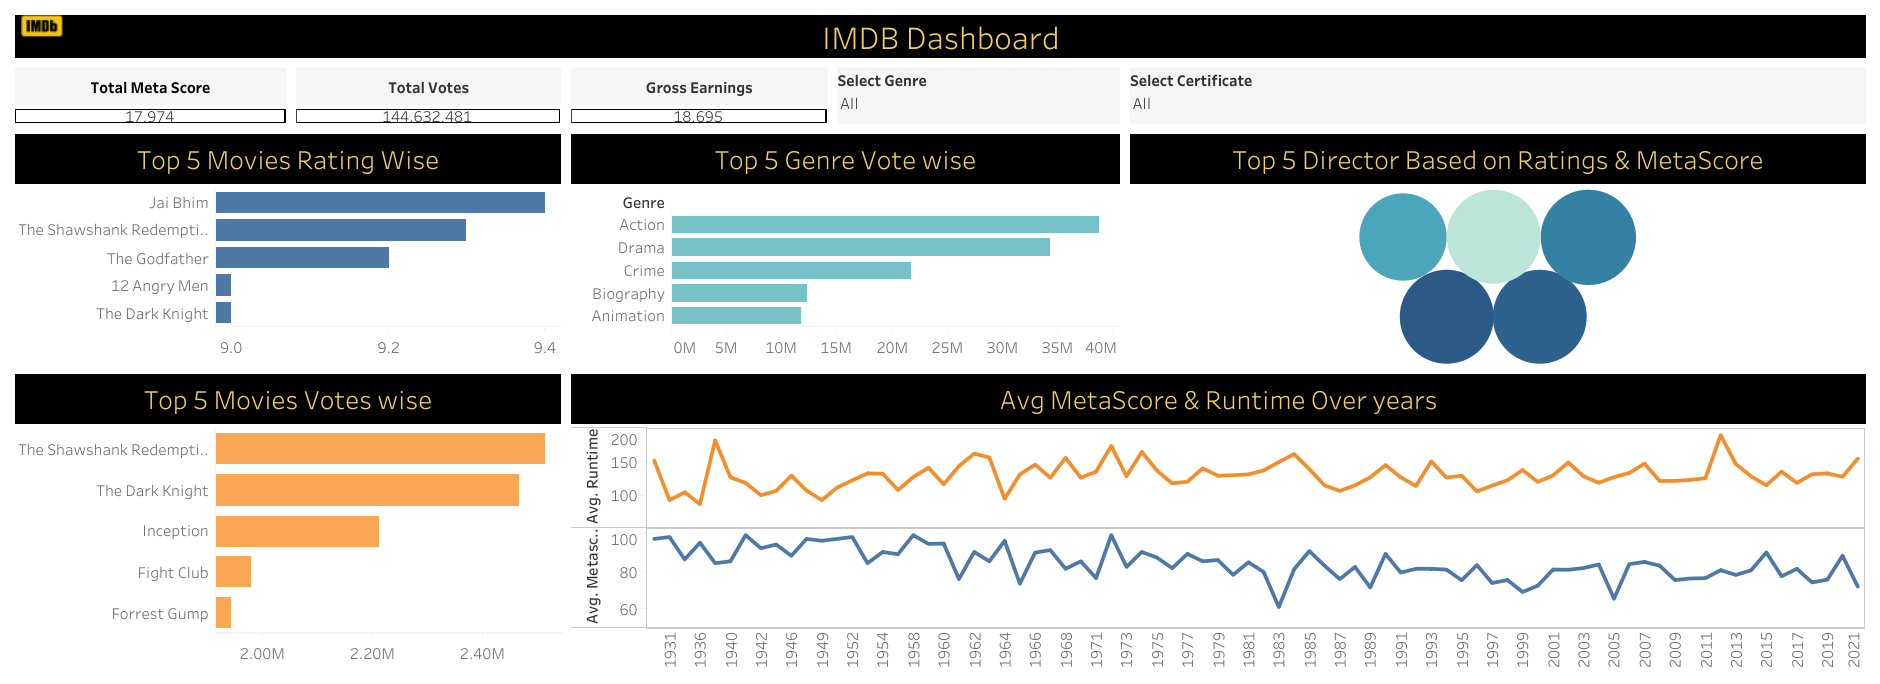

This screenshot's page, from the dashboard's own definition file:
{"tool":"tableau","page":{"name":"IMDB Dashboard","canvas":[1000,1000],"units":"permille","ordinal":0},"visuals":[{"type":"title","box":[4.8,9.1,990.3,57.1]},{"type":"image","param":"Image/logo.png","box":[11.5,21.7,50.7,33.1]},{"type":"worksheet","title":"Total Meta Score","mark":"Automatic","box":[4.8,66.3,149.4,99.4]},{"type":"worksheet","title":"Total Votes","mark":"Automatic","box":[154.3,66.3,146.4,99.4]},{"type":"worksheet","title":"Gross Earnings","mark":"Automatic","box":[300.7,66.3,142.1,99.4]},{"type":"filter","title":"Top 5 Movies Rating Wise","param":"[federated.0opvas81oexsgy19pbnk90237aim].[none:genre:nk]","box":[442.7,66.3,155.5,99.4]},{"type":"filter","title":"Top 5 Movies Rating Wise","param":"[federated.0opvas81oexsgy19pbnk90237aim].[none:certificate:nk]","box":[598.3,66.3,396.9,99.4]},{"type":"worksheet","title":"Top 5 Movies Rating Wise","mark":"Automatic","rows":["movie name"],"cols":["RATING"],"box":[4.8,165.7,295.7,362.8]},{"type":"worksheet","title":"Top 5 Genre Vote wise","mark":"Automatic","rows":["genre"],"cols":["votes"],"box":[300.5,165.7,297.8,362.8]},{"type":"worksheet","title":"Top 5 Director Based on Ratings & MetaScore","mark":"Circle","box":[598.3,165.7,396.9,362.8]},{"type":"worksheet","title":"Top 5 Movies Votes wise","mark":"Automatic","rows":["movie name"],"cols":["votes"],"box":[4.8,528.5,295.7,462.3]},{"type":"worksheet","title":"Avg MetaScore & Runtime Over years","mark":"Automatic","rows":["runtime","metascore"],"cols":["Year"],"box":[300.5,528.5,694.7,462.3]}]}

Visuals, with their boxes on the dashboard's canvas, which has no fixed pixel size, in thousandths of its width and height (x1, y1, x2, y2). These are canvas units, not pixel positions in the 1880x684 screenshot, which may show the page scaled, cropped or inside an application window:
title: 5 9 995 66
image: 12 22 62 55
"Total Meta Score" worksheet: 5 66 154 166
"Total Votes" worksheet: 154 66 301 166
"Gross Earnings" worksheet: 301 66 443 166
"Top 5 Movies Rating Wise" filter: 443 66 598 166
"Top 5 Movies Rating Wise" filter: 598 66 995 166
"Top 5 Movies Rating Wise" worksheet: 5 166 300 528
"Top 5 Genre Vote wise" worksheet: 300 166 598 528
"Top 5 Director Based on Ratings & MetaScore" worksheet (Circle marks): 598 166 995 528
"Top 5 Movies Votes wise" worksheet: 5 528 300 991
"Avg MetaScore & Runtime Over years" worksheet: 300 528 995 991
